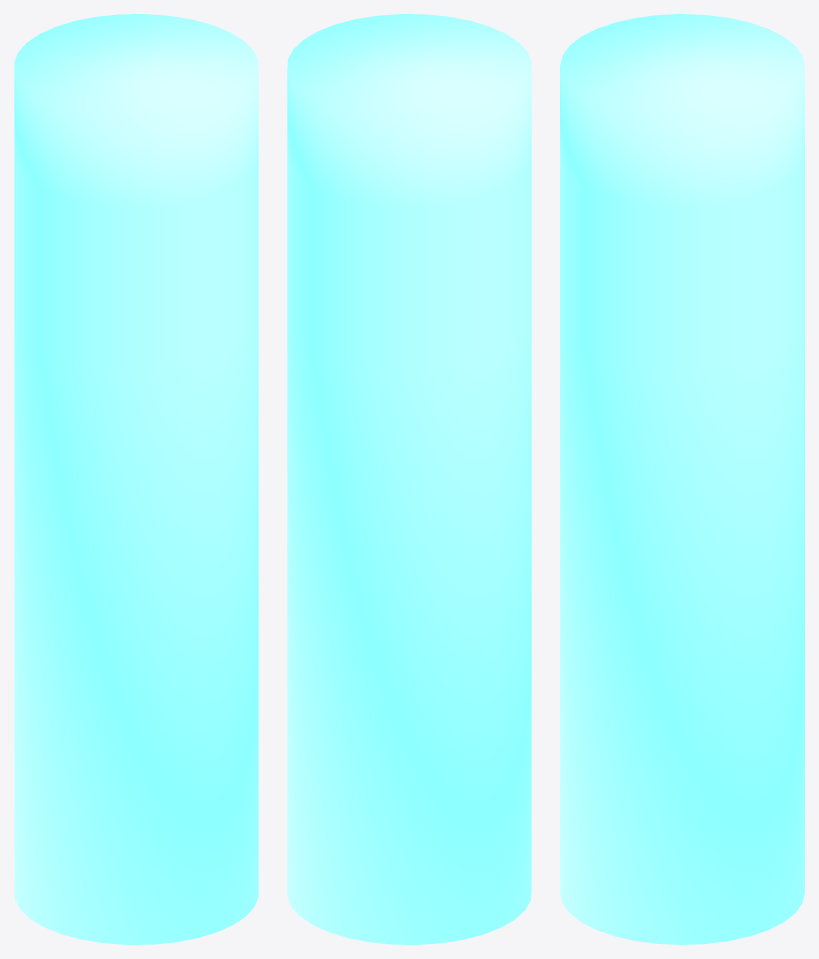
Rendered from Bullet3.fbx.
The picture shows the model from 3 angles, left to right: view 1: azimuth 30°, elevation 25°; view 2: azimuth 150°, elevation 25°; view 3: azimuth 270°, elevation 25°; orthographic projection.
Parts seen in each view (by area): view 1: Cylinder.001; view 2: Cylinder.001; view 3: Cylinder.001.
Boxes of the visible parts, bbox=[...] form: Cylinder.001: bbox=[14, 14, 258, 944]; Cylinder.001: bbox=[287, 14, 531, 944]; Cylinder.001: bbox=[560, 14, 804, 944].
Size of the model in its own units: 0.3241 by 1.21 by 0.3241.
